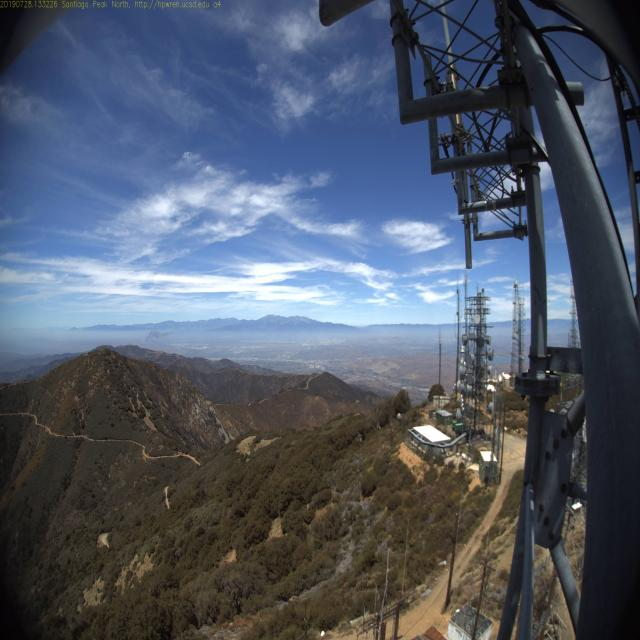smoke: (138, 321, 172, 348)
